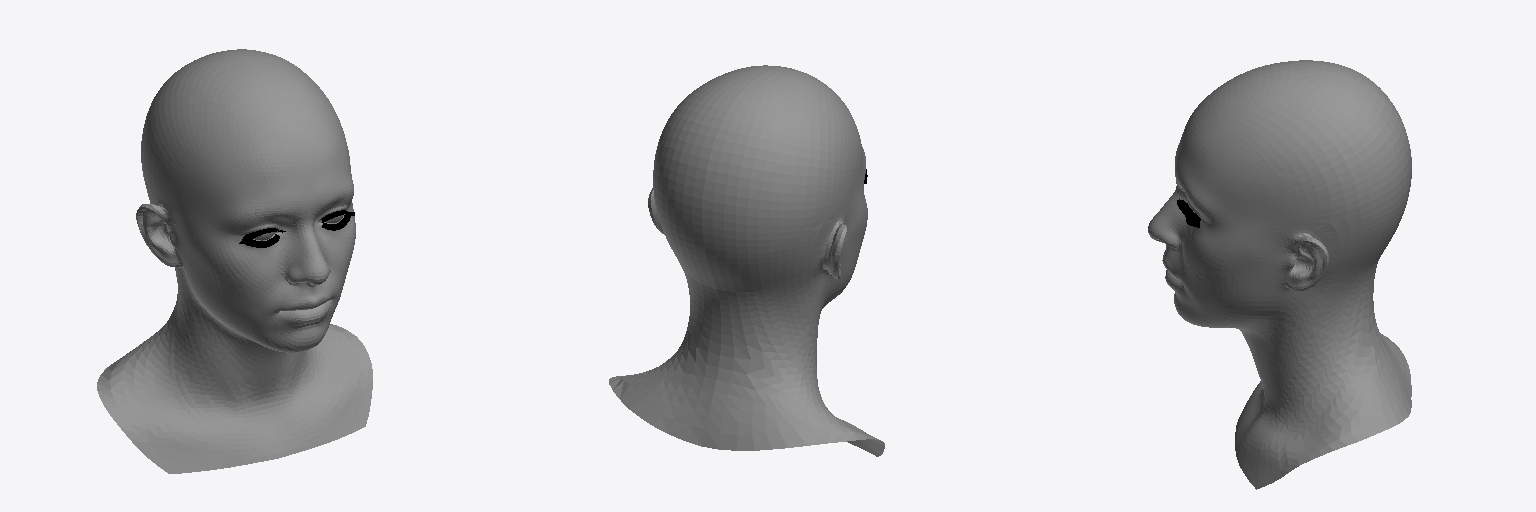
The model's file is identity005.obj.
The picture shows the model from 3 angles: view 1: azimuth 30°, elevation 25°; view 2: azimuth 150°, elevation 25°; view 3: azimuth 270°, elevation 25°; orthographic projection.
Bounding box in the file's own units: 24.55 × 33.79 × 21.72.